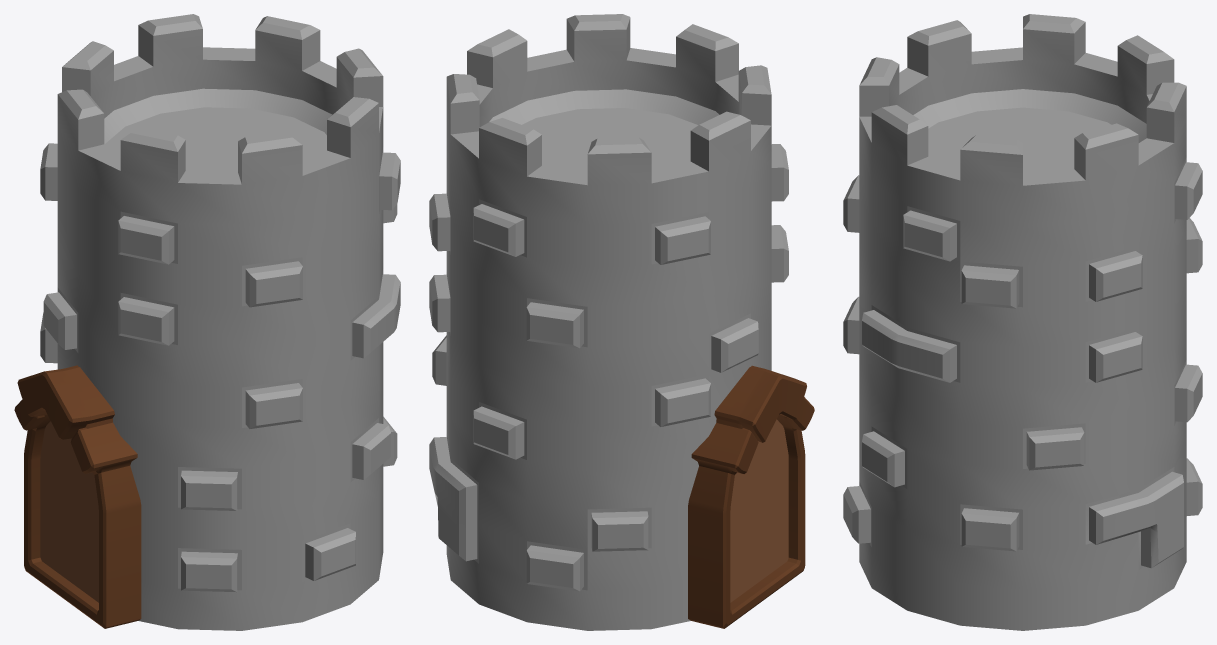
The model's file is testTower.obj.
3 views of the same model, side by side, from view 1: azimuth 30°, elevation 25°; view 2: azimuth 150°, elevation 25°; view 3: azimuth 270°, elevation 25° (orthographic).
Visible parts, largest first — view 1: Circle.001; view 2: Circle.001; view 3: Circle.001.
Boxes of the visible parts, x1,y1,x2,y2 form: Circle.001: [14, 14, 400, 630]; Circle.001: [429, 14, 814, 630]; Circle.001: [843, 14, 1202, 630].
Size of the model in its own units: 2.33 by 3.25 by 2.19.
